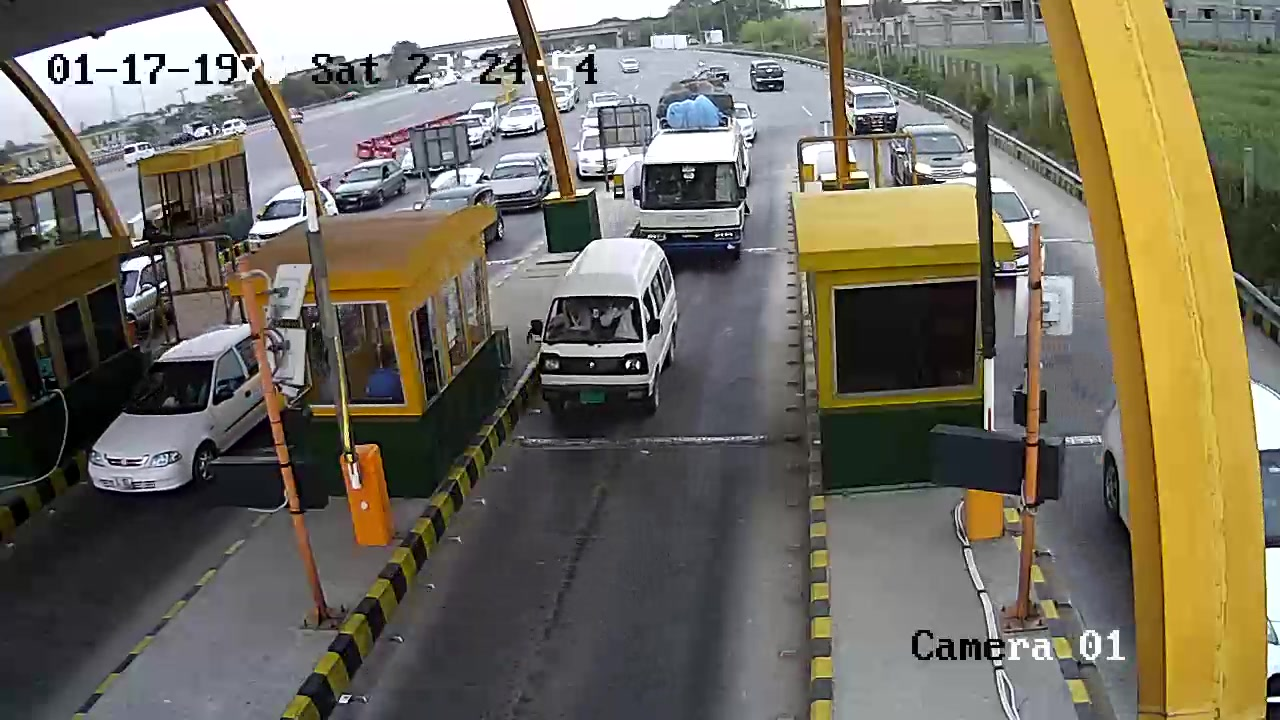F1: (546, 238, 677, 432)
